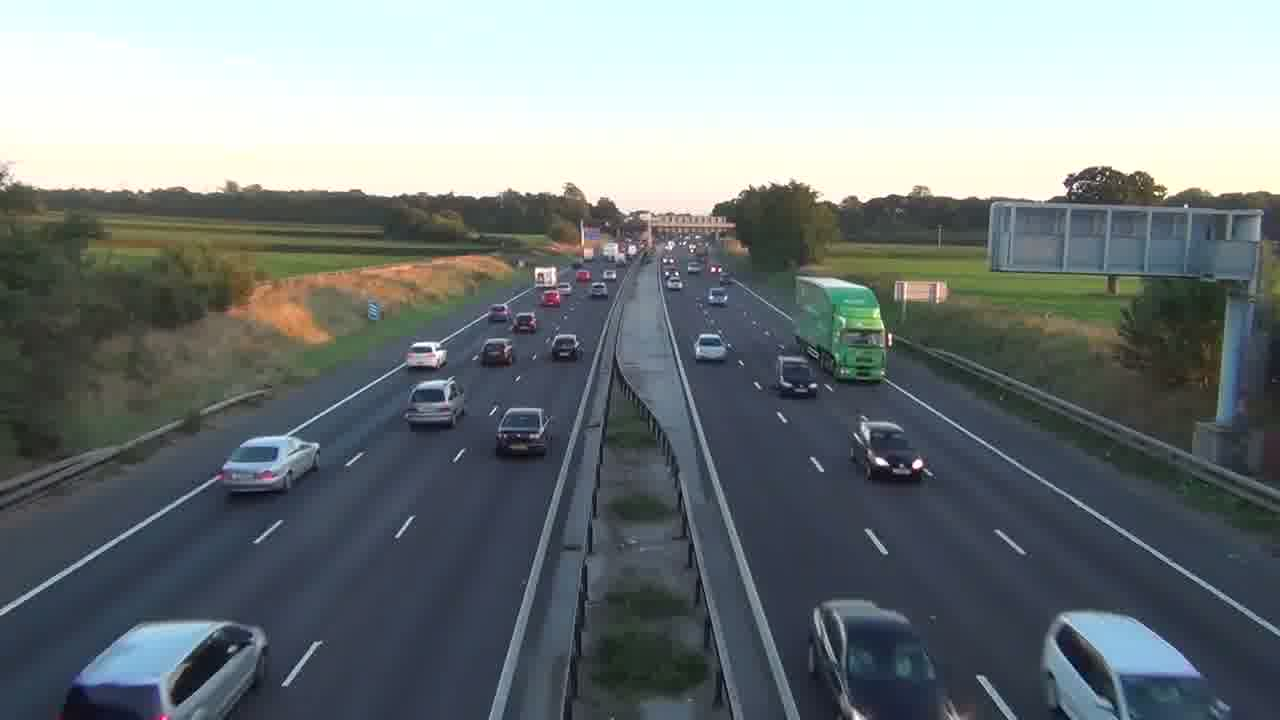bus: (794, 275, 888, 384)
car: (1039, 608, 1233, 719), (59, 618, 270, 718), (807, 596, 952, 719), (217, 434, 320, 496), (848, 416, 934, 482), (403, 376, 467, 429), (495, 406, 552, 456), (777, 354, 818, 398), (406, 341, 447, 369), (479, 337, 515, 366), (694, 333, 728, 363), (550, 332, 582, 361)
truck: (1039, 608, 1233, 719)
